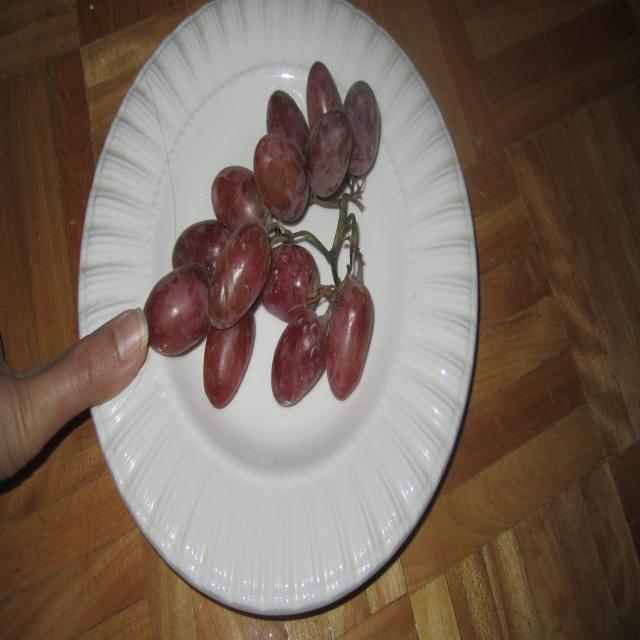grapes: (143, 59, 380, 410)
